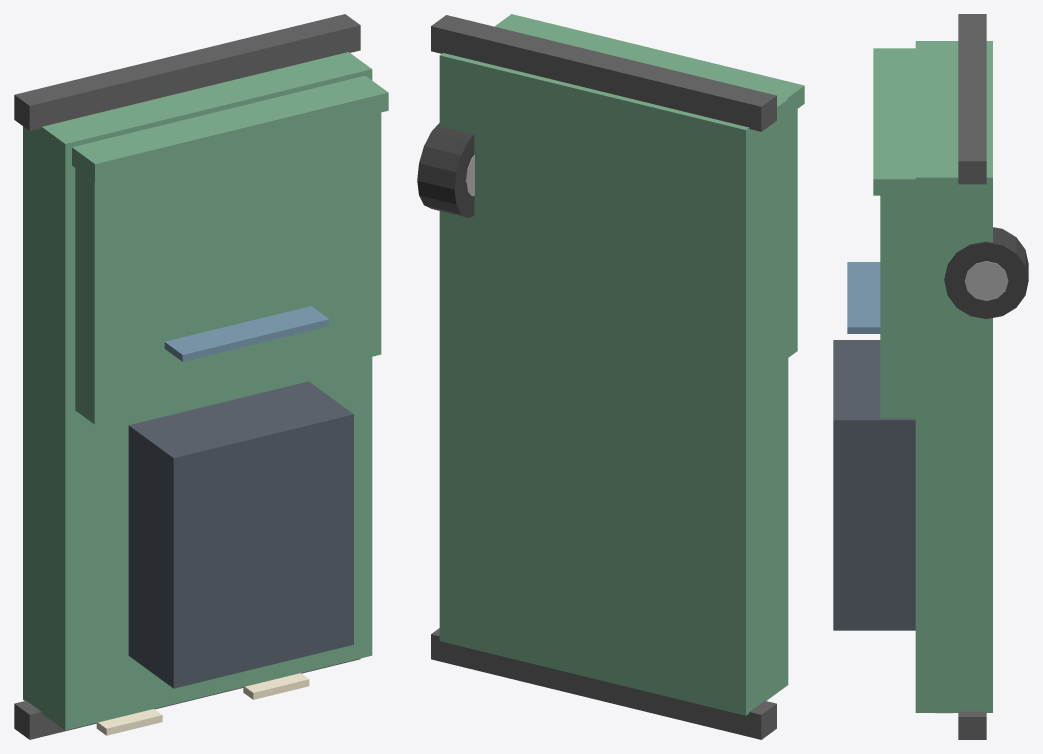
The model's file is vehicle_green_pickup.glb.
The picture shows the model from 3 angles, left to right: view 1: azimuth 30°, elevation 25°; view 2: azimuth 150°, elevation 25°; view 3: azimuth 270°, elevation 25°; orthographic projection. The views are drawn at different scales.
Parts seen in each view (by area): view 1: truck_bed, body, dark_cabin, rear_bumper, truck_tailgate, rear_window, front_bumper, headlight_R, headlight_L; view 2: body, rear_bumper, front_bumper, truck_tailgate, wheel_tire, truck_bed; view 3: body, dark_cabin, truck_bed, truck_tailgate, rear_bumper, wheel_tire, rear_window, wheel_hub, front_bumper.
Part boxes in pixels (<box>): truck_bed: <box>75,112,381,424</box>; body: <box>23,52,372,730</box>; dark_cabin: <box>128,381,353,688</box>; rear_bumper: <box>14,14,360,130</box>; truck_tailgate: <box>72,75,388,182</box>; rear_window: <box>164,306,329,361</box>; front_bumper: <box>14,658,360,739</box>; headlight_R: <box>243,673,309,699</box>; headlight_L: <box>96,709,162,735</box>; body: <box>439,53,788,715</box>; rear_bumper: <box>431,15,776,131</box>; front_bumper: <box>431,628,776,739</box>; truck_tailgate: <box>495,14,804,115</box>; wheel_tire: <box>417,123,474,217</box>; truck_bed: <box>788,109,797,357</box>; body: <box>915,41,992,712</box>; dark_cabin: <box>833,340,915,630</box>; truck_bed: <box>880,195,915,418</box>; truck_tailgate: <box>873,48,915,195</box>; rear_bumper: <box>958,14,986,184</box>; wheel_tire: <box>944,227,1028,318</box>; rear_window: <box>847,262,880,333</box>; wheel_hub: <box>964,261,1008,300</box>; front_bumper: <box>958,711,986,739</box>.
Size of the model in its own units: 2.48 by 4.56 by 1.39.
